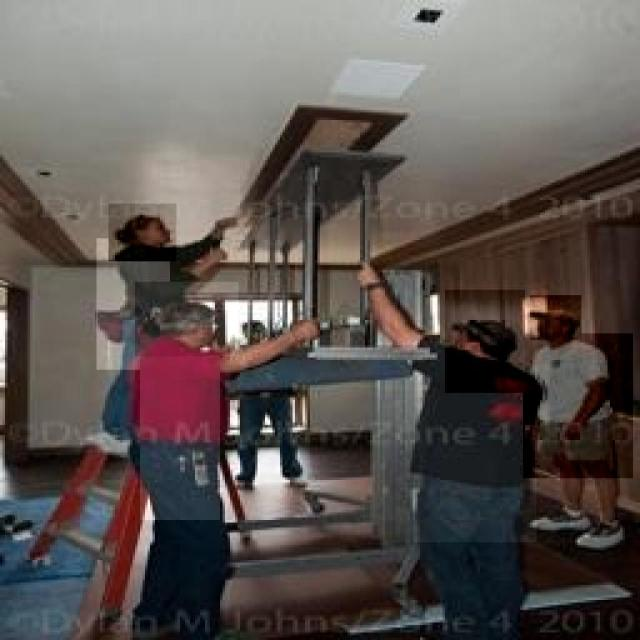Helmet: (414, 342, 536, 542), (524, 334, 634, 478), (140, 332, 220, 520), (96, 238, 170, 370), (445, 291, 525, 394), (135, 282, 239, 356), (108, 204, 176, 262), (530, 295, 582, 364)
